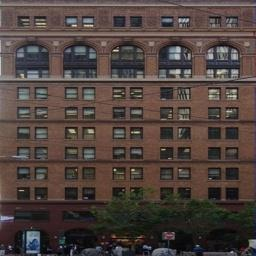building: (0, 0, 256, 226)
